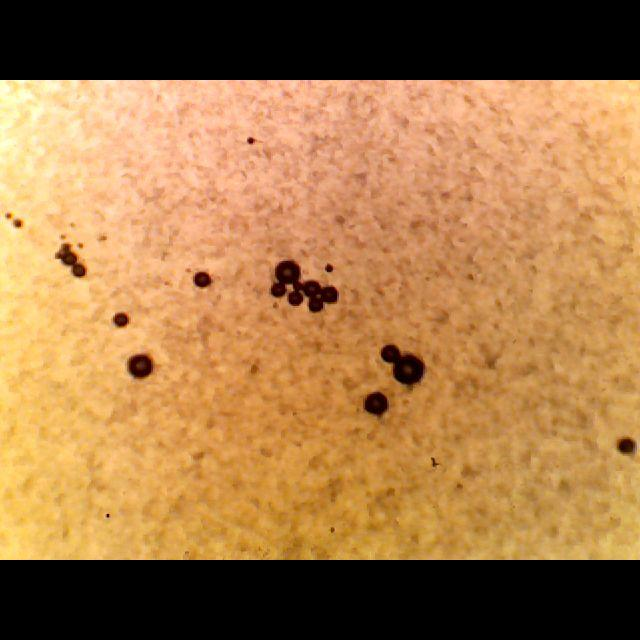Fragment: (364, 388, 392, 418)
